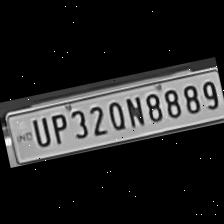2: (82, 100, 108, 137)
3: (64, 104, 90, 141)
8: (139, 88, 164, 124), (158, 84, 183, 120), (177, 80, 202, 116)
9: (196, 76, 221, 112)
N: (120, 92, 144, 130)
P: (43, 110, 70, 146)
Q: (102, 96, 128, 133)
U: (26, 112, 52, 148)
